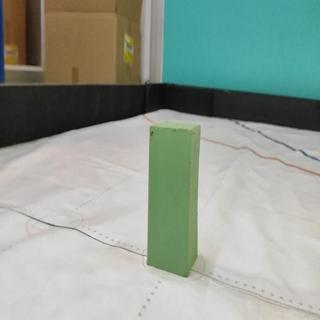greenbox: (147, 121, 202, 280)
